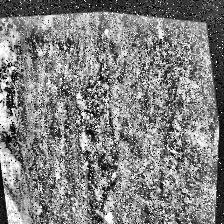pothole: (60, 68, 138, 224)
